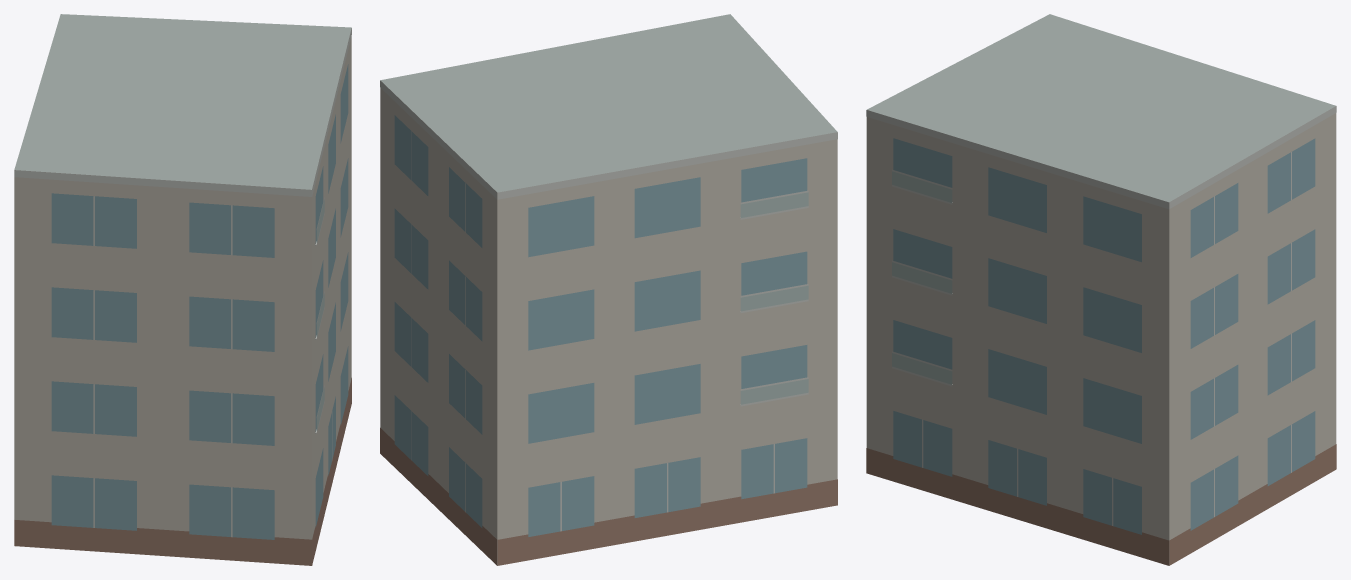
File: survey-upis-32968811.glb
The picture shows the model from 3 angles, left to right: view 1: azimuth 30°, elevation 25°; view 2: azimuth 150°, elevation 25°; view 3: azimuth 270°, elevation 25°; orthographic projection. The views are drawn at different scales.
Parts seen in each view (by area): view 1: survey-upis-32968811.tmp; view 2: survey-upis-32968811.tmp; view 3: survey-upis-32968811.tmp.
Part boxes in pixels (x1,y1,x2,y2): survey-upis-32968811.tmp: (14, 14, 351, 565); survey-upis-32968811.tmp: (380, 14, 837, 565); survey-upis-32968811.tmp: (866, 14, 1336, 565).
Size of the model in its own units: 14.23 by 12.8 by 15.
